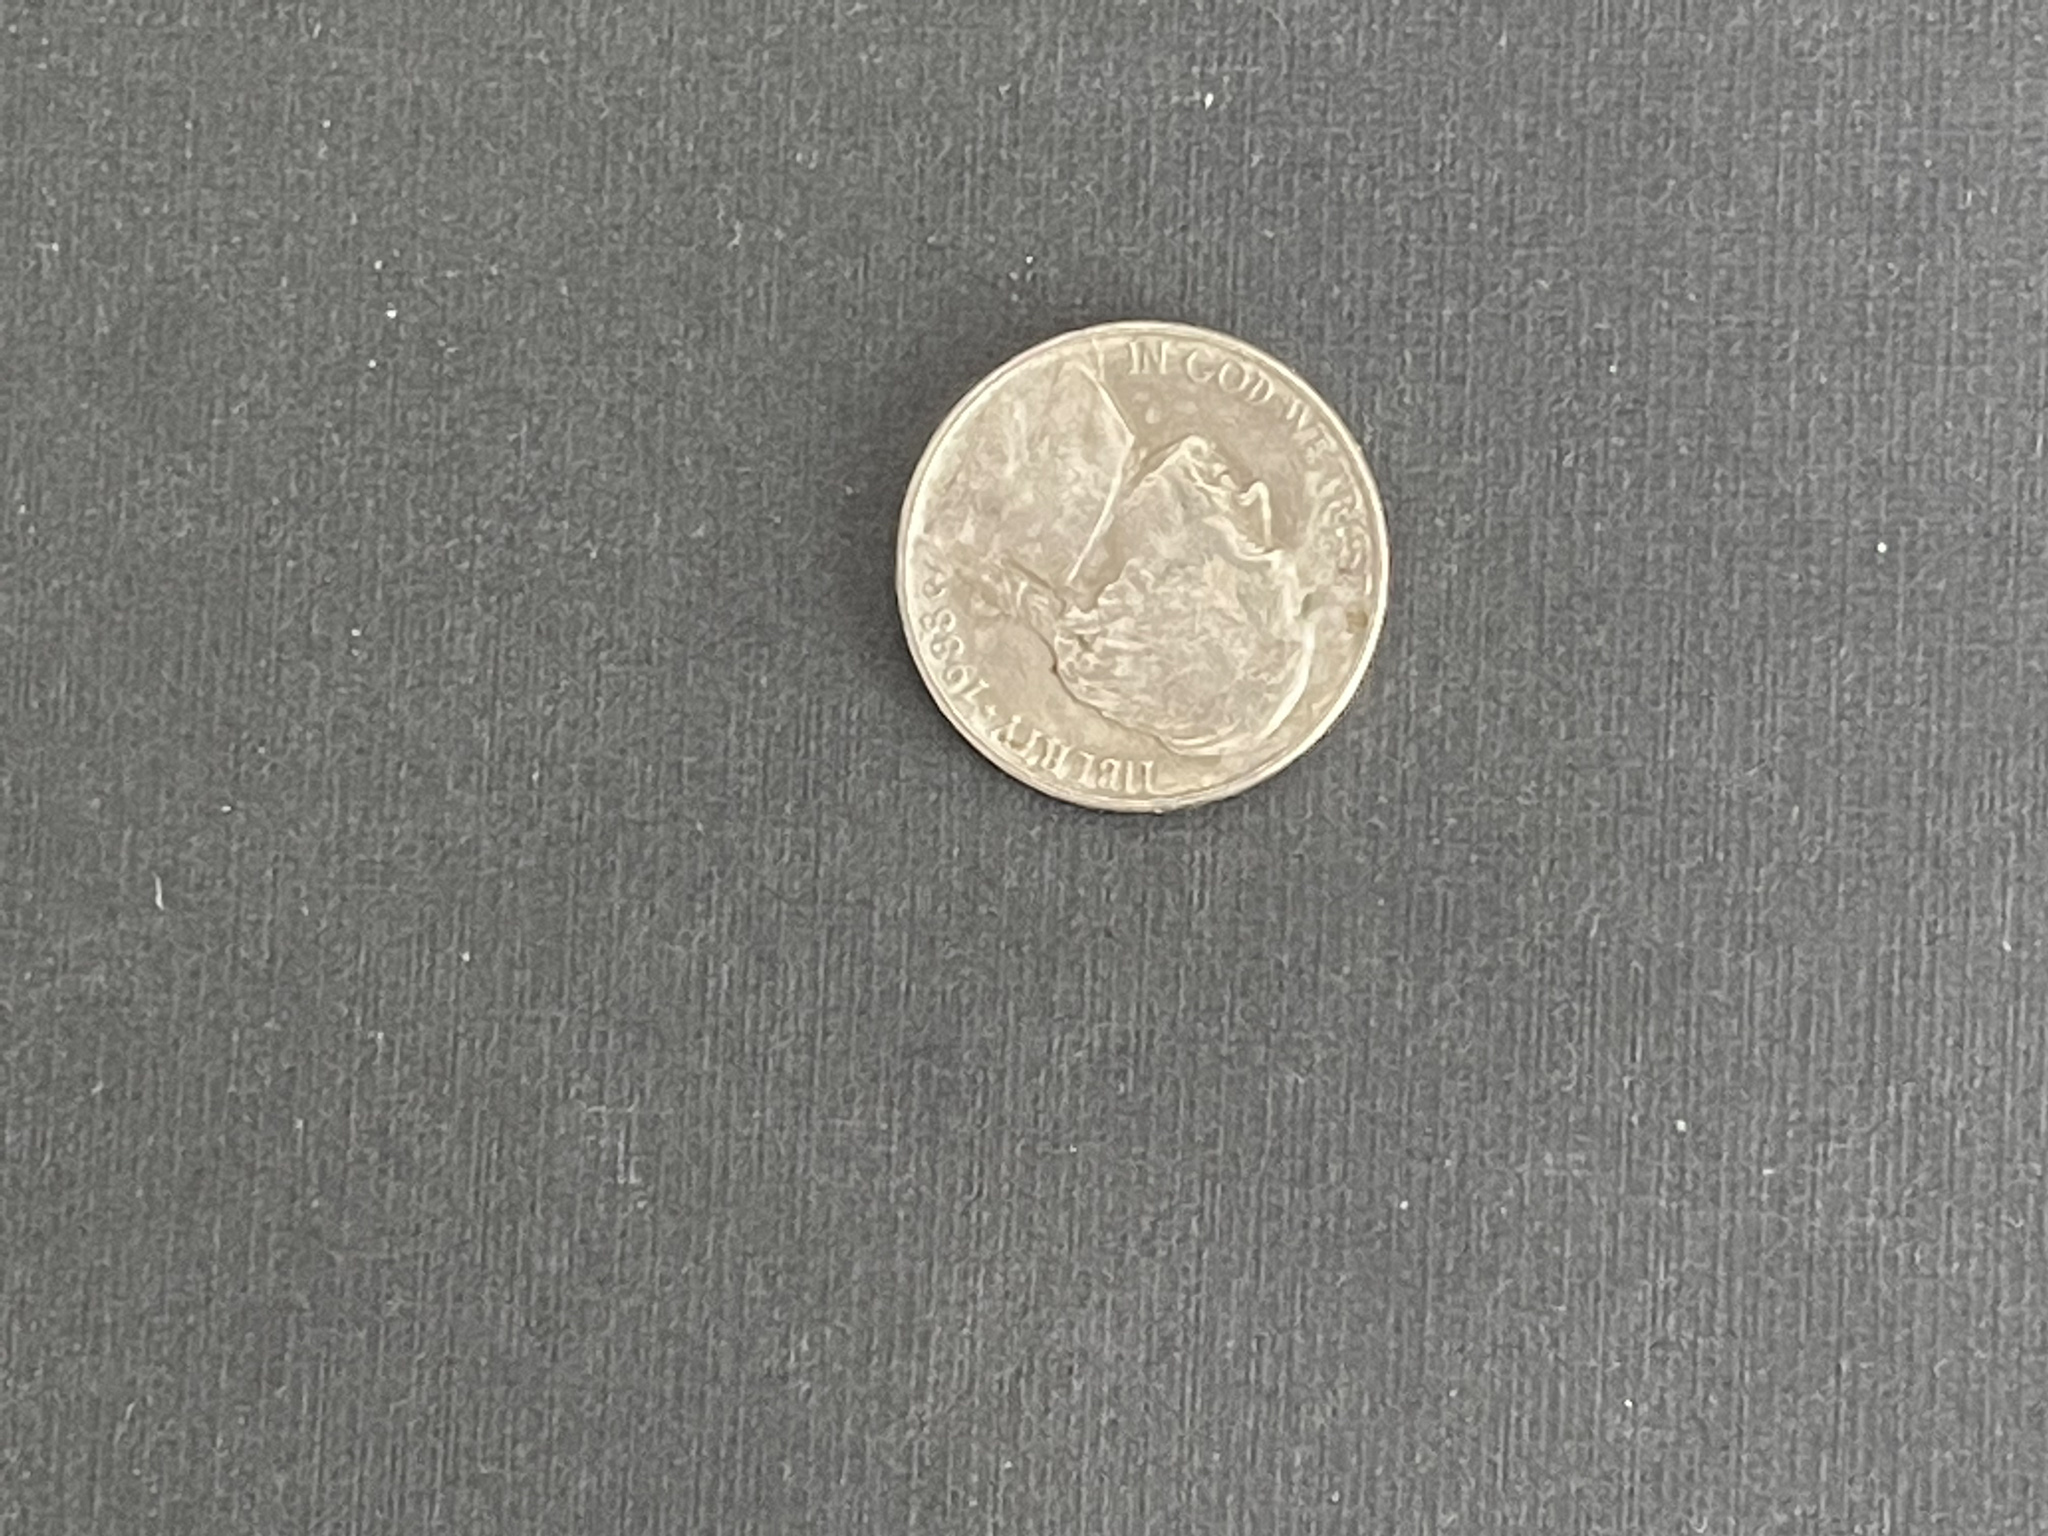nickel: (889, 318, 1398, 818)
